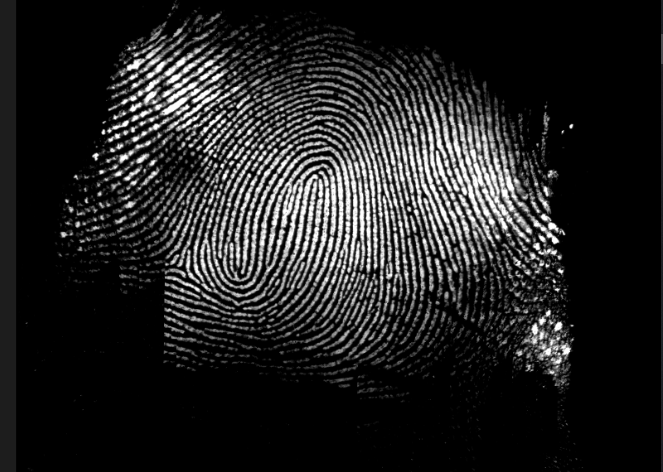nucelo: (300, 170, 329, 216)
verticilo: (164, 246, 198, 286), (483, 291, 517, 322)
